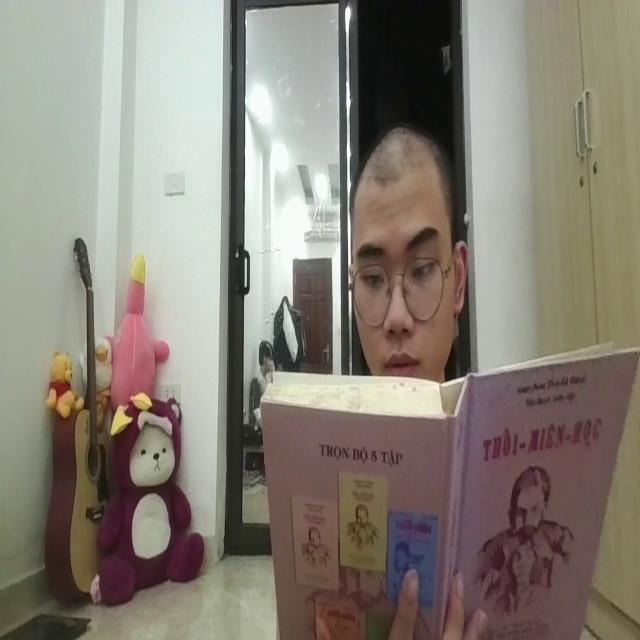book: (247, 348, 635, 640)
student: (330, 117, 493, 409)
